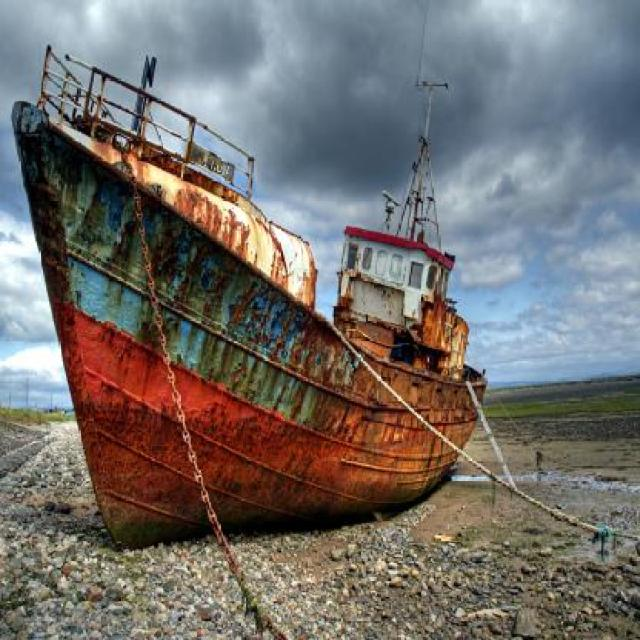corrosion: (13, 48, 490, 546)
